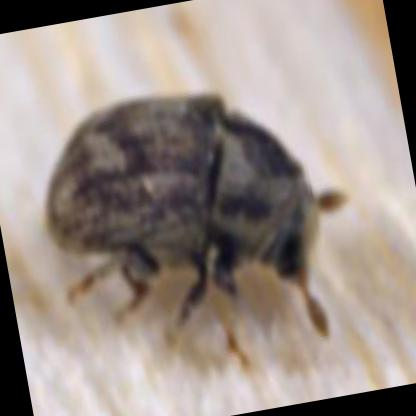ash weevil: (45, 94, 344, 334)
